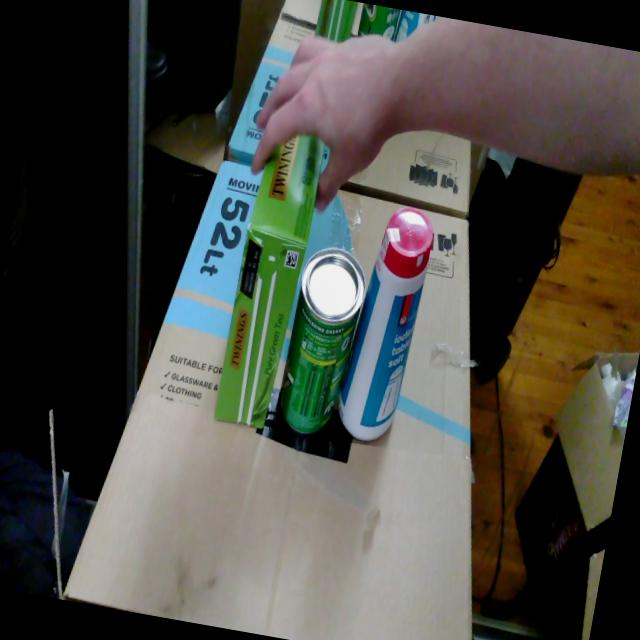nestle_milo_tin: (277, 247, 365, 434)
twinings_greentea_box: (213, 135, 325, 428)
woolworths_salt_bottle: (337, 207, 433, 440)
